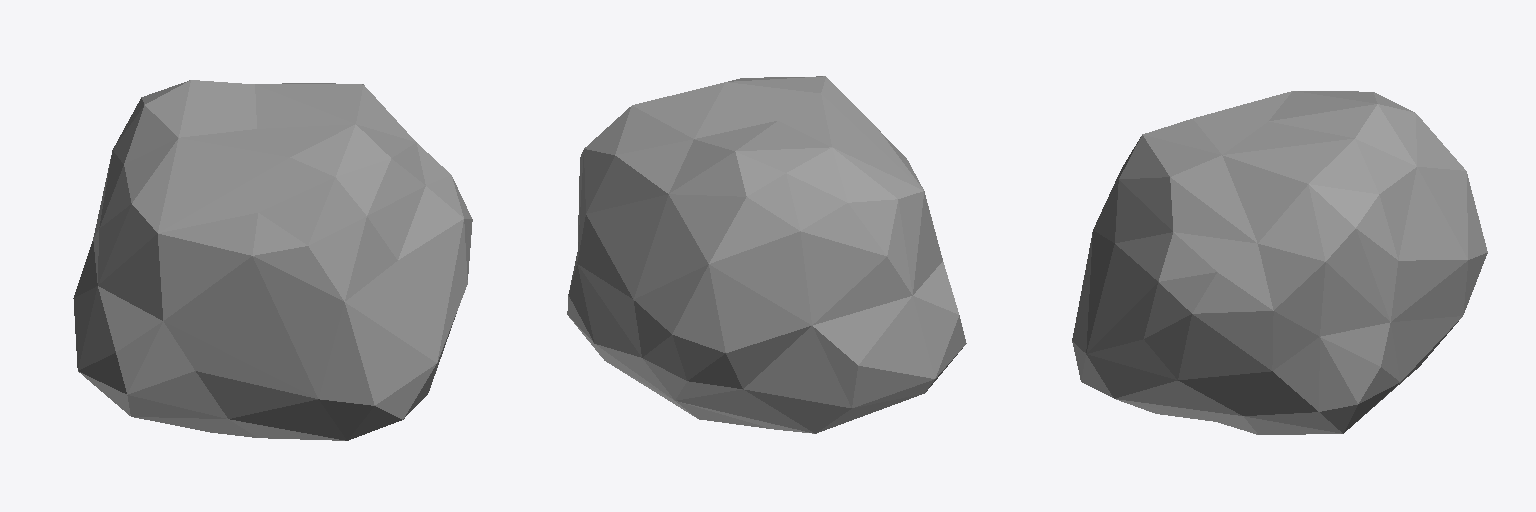
Rendered from asteroid.obj.
The picture shows the model from 3 angles: view 1: azimuth 30°, elevation 25°; view 2: azimuth 150°, elevation 25°; view 3: azimuth 270°, elevation 25°; orthographic projection.
Visible parts, largest first — view 1: Asteroid_Icosphere; view 2: Asteroid_Icosphere; view 3: Asteroid_Icosphere.
Boxes of the visible parts, <box> form: Asteroid_Icosphere: <box>73,80,472,440</box>; Asteroid_Icosphere: <box>567,76,966,433</box>; Asteroid_Icosphere: <box>1072,91,1487,434</box>.
Size of the model in its own units: 8.23 by 6.56 by 8.57.